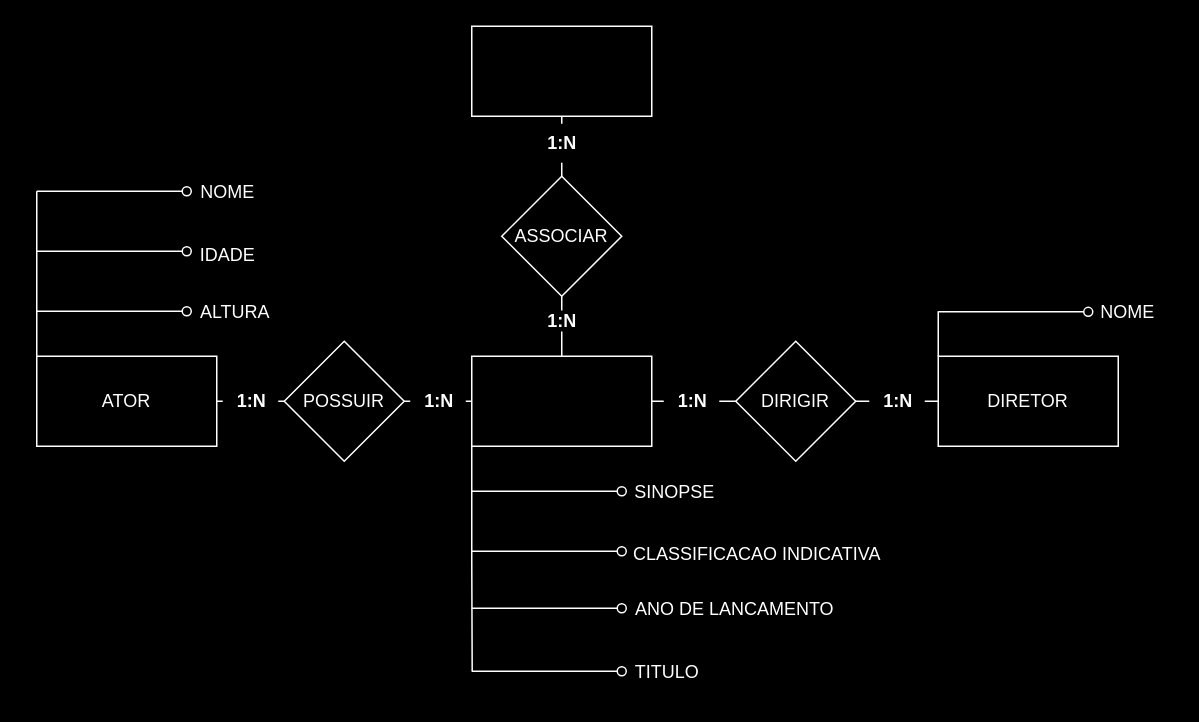
The diagram is 1199 pixels wide and 722 high, and some of its shapes have lost their labels. The centre of each missing label's shape, as x and y in pixels:
FILME: [561,400]
GENERO: [561,70]
